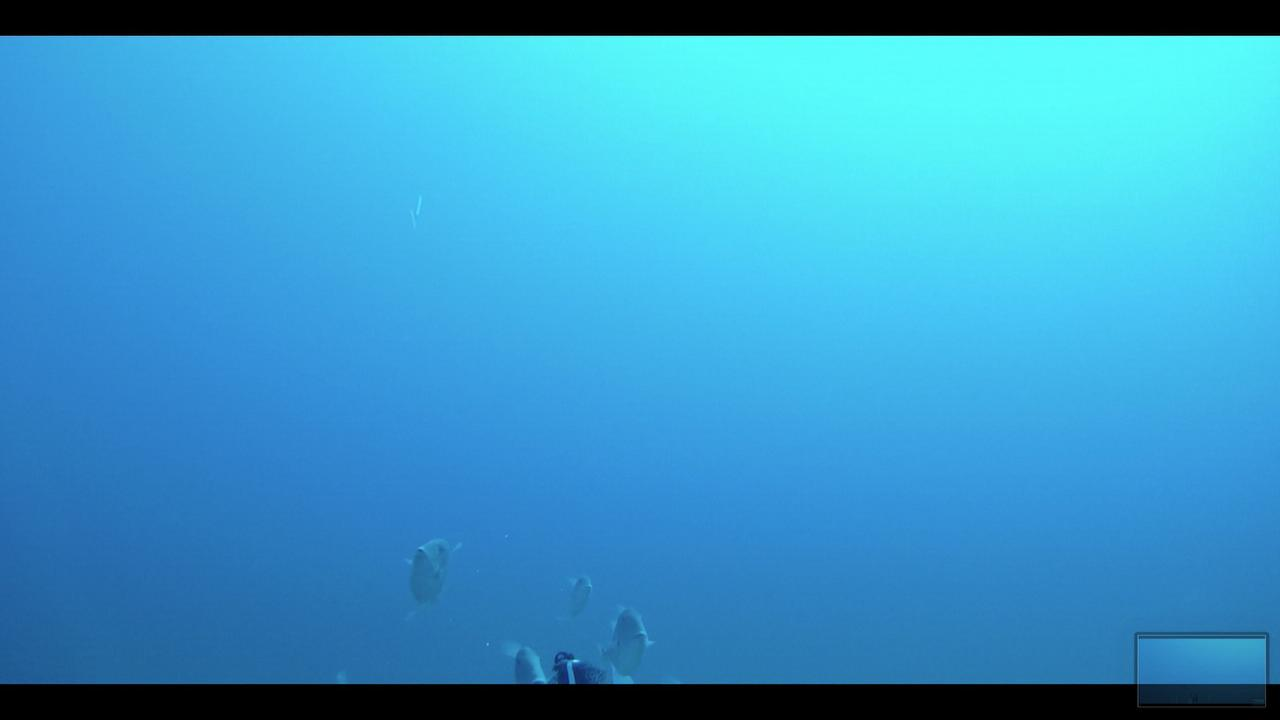balistes: (401, 531, 465, 623), (598, 600, 657, 680), (498, 636, 550, 682), (566, 570, 593, 618)
